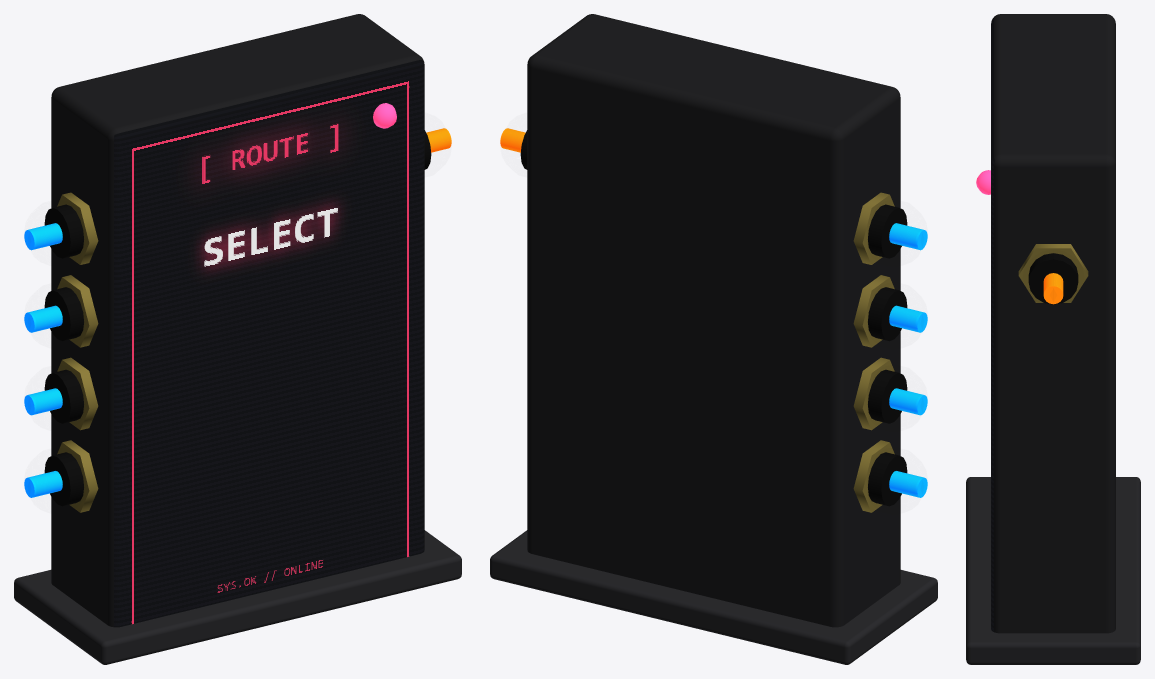
The model's file is route_select.glb.
3 renders of one model, left to right at view 1: azimuth 30°, elevation 25°; view 2: azimuth 150°, elevation 25°; view 3: azimuth 270°, elevation 25°, orthographic. The views are drawn at different scales.
Visible parts, largest first — view 1: chassis, bracket, socket (×4), hex_nut (×4), pin (×4); view 2: chassis, bracket, socket (×4), hex_nut (×4), pin (×4); view 3: chassis, bracket, socket, hex_nut, pin, status_led.
Boxes of the visible parts, bbox=[...] form: chassis: bbox=[51, 14, 424, 627]; bracket: bbox=[14, 530, 461, 664]; socket (×4): bbox=[44, 204, 83, 506]; hex_nut (×4): bbox=[57, 192, 98, 512]; pin (×4): bbox=[24, 223, 62, 497]; chassis: bbox=[527, 14, 900, 627]; bracket: bbox=[490, 530, 937, 664]; socket (×4): bbox=[868, 204, 907, 506]; hex_nut (×4): bbox=[853, 192, 894, 512]; pin (×4): bbox=[889, 223, 927, 497]; chassis: bbox=[991, 14, 1115, 633]; bracket: bbox=[966, 477, 1140, 664]; socket: bbox=[1028, 253, 1078, 304]; hex_nut: bbox=[1018, 244, 1088, 302]; pin: bbox=[1043, 273, 1063, 304]; status_led: bbox=[976, 170, 990, 194].
Bounding box in the file's own units: 1.86 × 2.2 × 0.7.
Materials: 13 (1 with a texture image).
